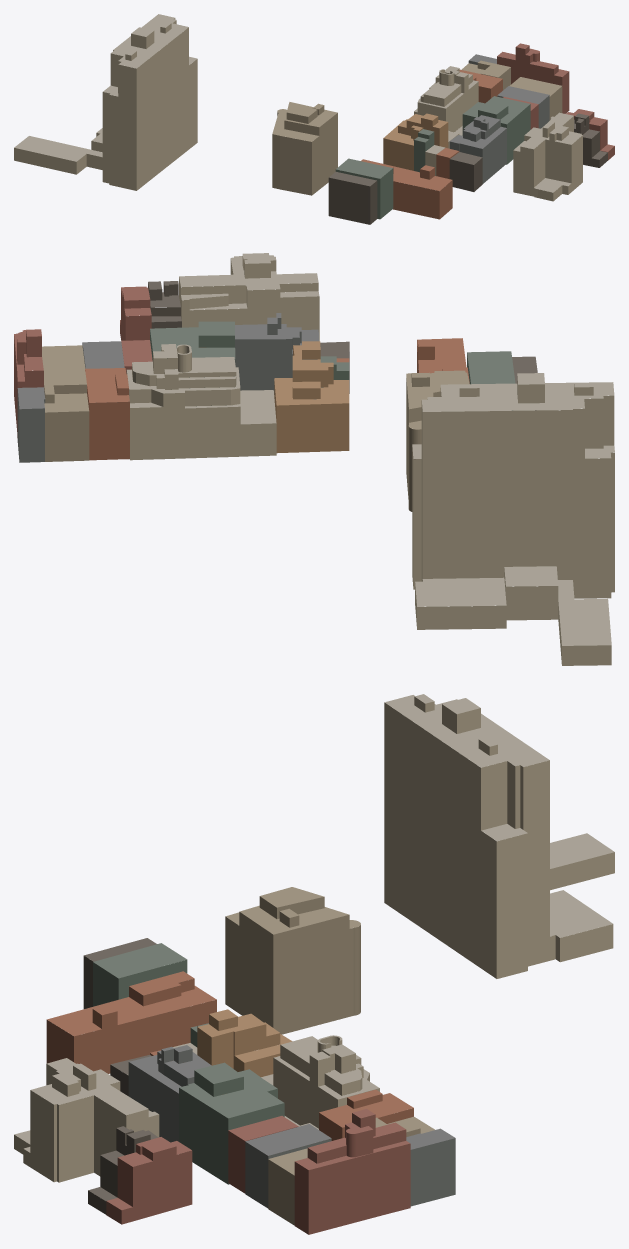
File: tile--3_13.glb
The picture shows the model from 3 angles, top to bottom: view 1: azimuth 30°, elevation 25°; view 2: azimuth 150°, elevation 25°; view 3: azimuth 270°, elevation 25°; orthographic projection. The views are drawn at different scales.
Visible parts, largest first — view 1: wall, roof; view 2: wall, roof; view 3: wall, roof.
Part boxes in pixels (left/top/right/bottom): wall: left=14, top=18, right=614, bottom=224; roof: left=14, top=14, right=614, bottom=192; wall: left=14, top=256, right=614, bottom=665; roof: left=14, top=253, right=614, bottom=645; wall: left=14, top=696, right=614, bottom=1234; roof: left=14, top=694, right=614, bottom=1210.
Bounding box in the file's own units: 230 × 64.21 × 155.
